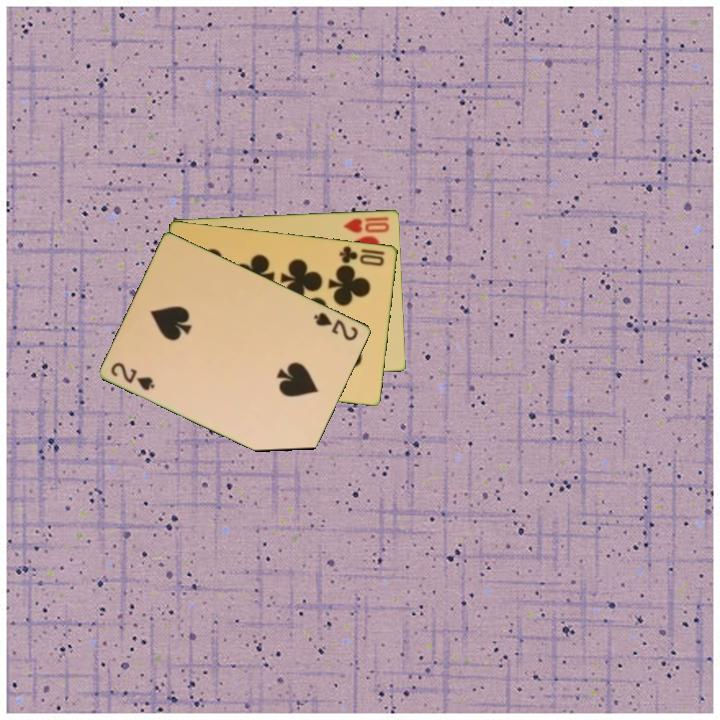10c: (336, 242, 387, 269)
10h: (340, 213, 392, 236)
2s: (310, 309, 361, 344), (107, 358, 158, 393)
